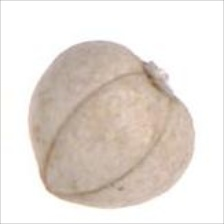L5: (41, 73, 172, 198), (137, 54, 183, 108)
L6: (25, 38, 197, 211)
